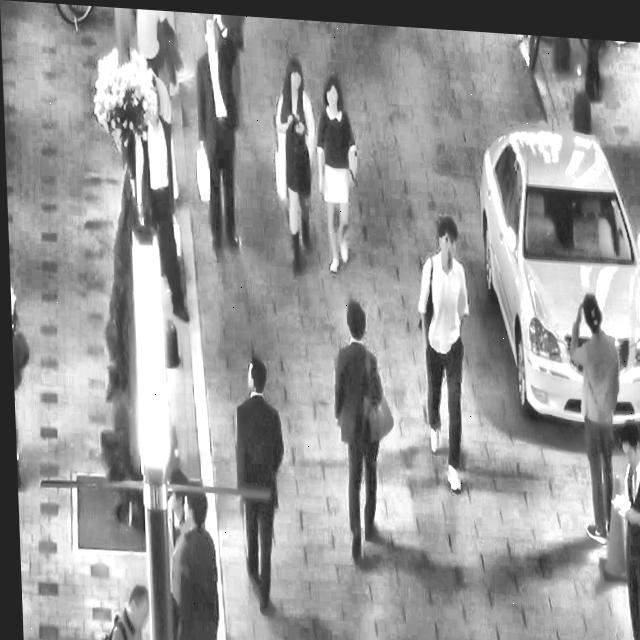light_vehicle: (470, 98, 640, 431)
